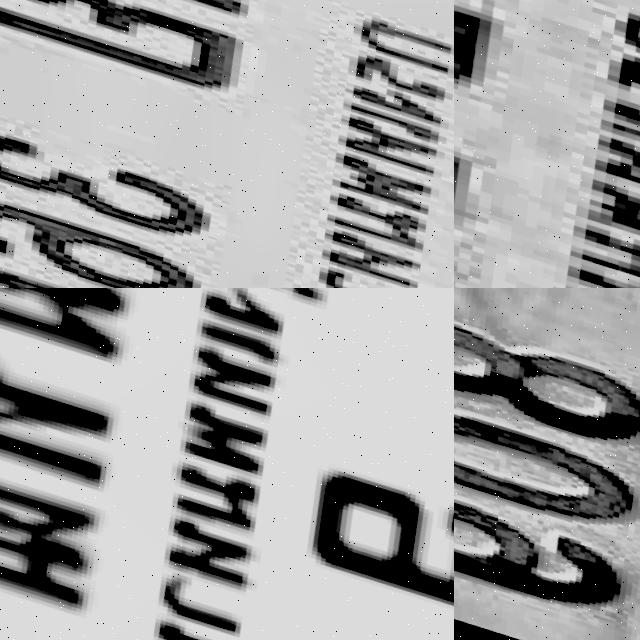license-plate: (0, 288, 454, 640), (0, 0, 454, 288), (454, 288, 640, 640), (454, 0, 640, 288)
